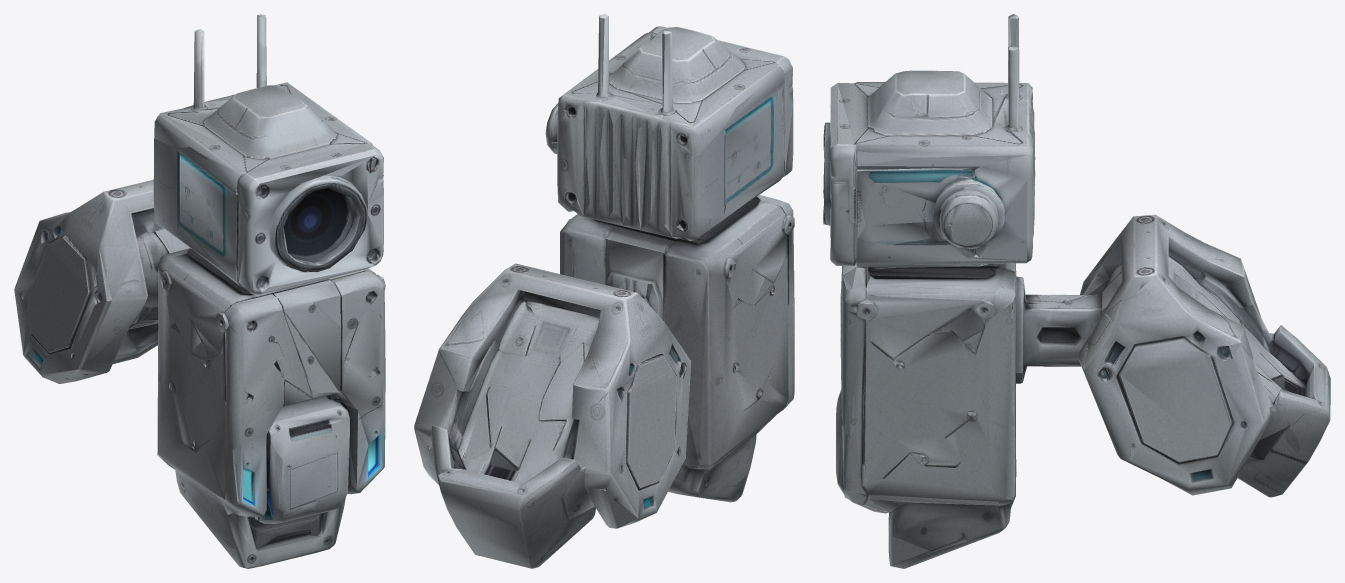
File: Weapon_Scanner.fbx
3 views of the same model, side by side, from view 1: azimuth 30°, elevation 25°; view 2: azimuth 150°, elevation 25°; view 3: azimuth 270°, elevation 25° (orthographic). The views are drawn at different scales.
Parts seen in each view (by area): view 1: Mesh_0; view 2: Mesh_0; view 3: Mesh_0.
Boxes of the visible parts, left/top/right/bottom form: Mesh_0: left=14, top=14, right=385, bottom=568; Mesh_0: left=414, top=14, right=794, bottom=568; Mesh_0: left=823, top=14, right=1330, bottom=568.
Size of the model in its own units: 84.57 by 190 by 169.
Materials: 1 (1 with a texture image).
